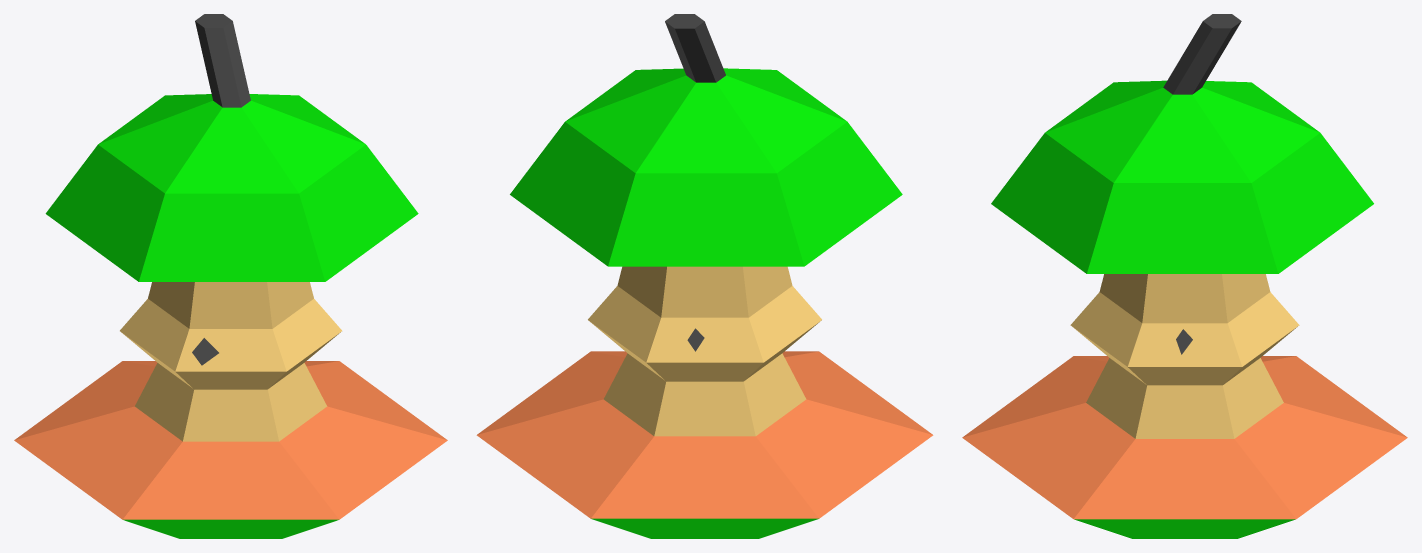
The model's file is Yellow_apple.fbx.
3 renders of one model, left to right at view 1: azimuth 30°, elevation 25°; view 2: azimuth 150°, elevation 25°; view 3: azimuth 270°, elevation 25°, orthographic. The views are drawn at different scales.
Visible parts, largest first — view 1: Cylinder.005; view 2: Cylinder.005; view 3: Cylinder.005.
Part boxes in pixels (bbox=[...]): Cylinder.005: bbox=[14, 14, 447, 538]; Cylinder.005: bbox=[476, 14, 933, 538]; Cylinder.005: bbox=[962, 14, 1407, 538].
Size of the model in its own units: 74.67 by 102 by 86.22.
